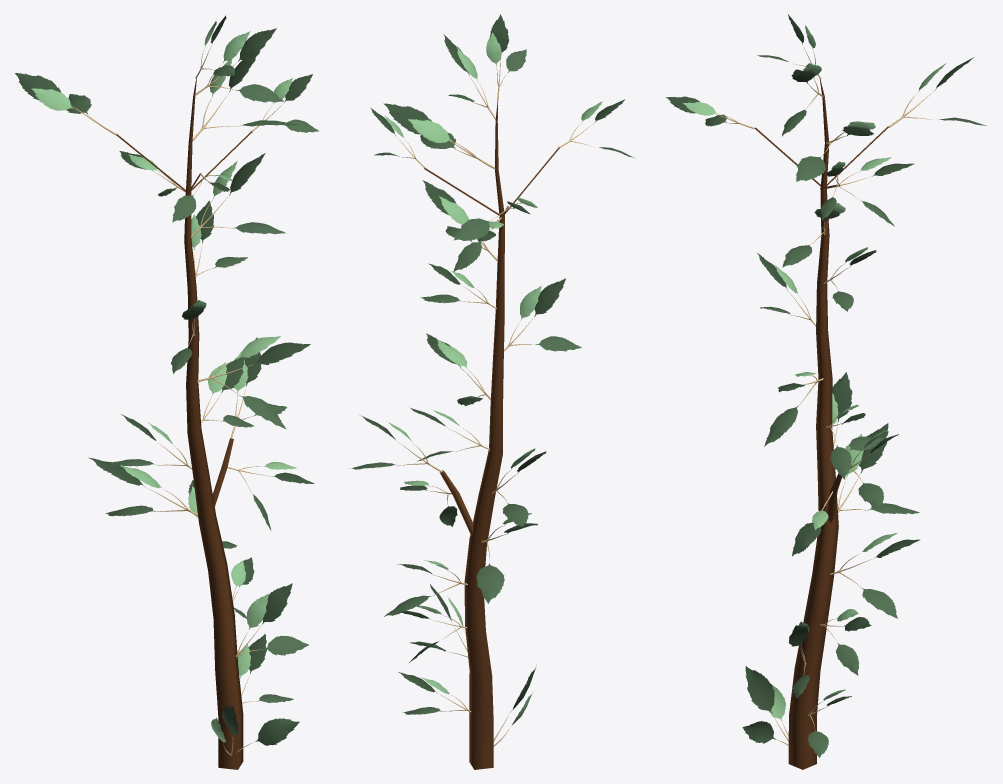
Rendered from Tree18.fbx.
The picture shows the model from 3 angles, left to right: view 1: azimuth 30°, elevation 25°; view 2: azimuth 150°, elevation 25°; view 3: azimuth 270°, elevation 25°; orthographic projection.
Parts seen in each view (by area): view 1: Árbol.002, Hojas|tree|Dupli|17, Hojas|tree|Dupli|15, Hojas|tree|Dupli|18, Hojas|tree|Dupli|4, Hojas|tree|Dupli|7, Hojas|tree|Dupli|, Hojas|tree|Dupli|5, Hojas|tree|Dupli|13, Hojas|tree|Dupli|2, Hojas|tree|Dupli|20, Hojas|tree|Dupli|12 (+8 smaller); view 2: Árbol.002, Hojas|tree|Dupli|2, Hojas|tree|Dupli|9, Hojas|tree|Dupli|3, Hojas|tree|Dupli|5, Hojas|tree|Dupli|, Hojas|tree|Dupli|17, Hojas|tree|Dupli|4, Hojas|tree|Dupli|16, Hojas|tree|Dupli|18, Hojas|tree|Dupli|12, Hojas|tree|Dupli|20 (+5 smaller); view 3: Árbol.002, Hojas|tree|Dupli|7, Hojas|tree|Dupli|5, Hojas|tree|Dupli|8, Hojas|tree|Dupli|16, Hojas|tree|Dupli|2, Hojas|tree|Dupli|11, Hojas|tree|Dupli|17, Hojas|tree|Dupli|6, Hojas|tree|Dupli|19, Hojas|tree|Dupli|14, Hojas|tree|Dupli|10 (+8 smaller).
Part boxes in pixels (<box>): Árbol.002: <box>116,78,251,769</box>; Hojas|tree|Dupli|17: <box>197,336,310,429</box>; Hojas|tree|Dupli|15: <box>236,583,308,657</box>; Hojas|tree|Dupli|18: <box>194,28,283,102</box>; Hojas|tree|Dupli|4: <box>15,73,116,135</box>; Hojas|tree|Dupli|7: <box>211,706,299,755</box>; Hojas|tree|Dupli|: <box>191,153,285,237</box>; Hojas|tree|Dupli|5: <box>88,457,197,516</box>; Hojas|tree|Dupli|13: <box>201,357,254,427</box>; Hojas|tree|Dupli|2: <box>192,51,298,142</box>; Hojas|tree|Dupli|20: <box>191,200,247,278</box>; Hojas|tree|Dupli|12: <box>237,634,293,703</box>; Árbol.002: <box>424,101,559,769</box>; Hojas|tree|Dupli|2: <box>383,103,495,169</box>; Hojas|tree|Dupli|9: <box>504,278,581,351</box>; Hojas|tree|Dupli|3: <box>486,14,526,101</box>; Hojas|tree|Dupli|5: <box>476,513,537,603</box>; Hojas|tree|Dupli|: <box>422,180,497,261</box>; Hojas|tree|Dupli|17: <box>426,333,490,405</box>; Hojas|tree|Dupli|4: <box>453,197,537,240</box>; Hojas|tree|Dupli|16: <box>492,448,546,527</box>; Hojas|tree|Dupli|18: <box>443,34,495,119</box>; Hojas|tree|Dupli|12: <box>398,672,471,714</box>; Hojas|tree|Dupli|20: <box>420,263,496,309</box>; Árbol.002: <box>755,79,888,769</box>; Hojas|tree|Dupli|7: <box>742,666,789,746</box>; Hojas|tree|Dupli|5: <box>838,423,919,514</box>; Hojas|tree|Dupli|8: <box>830,533,920,618</box>; Hojas|tree|Dupli|16: <box>832,372,883,451</box>; Hojas|tree|Dupli|2: <box>796,121,875,181</box>; Hojas|tree|Dupli|11: <box>820,609,871,675</box>; Hojas|tree|Dupli|17: <box>764,372,823,446</box>; Hojas|tree|Dupli|6: <box>666,96,754,128</box>; Hojas|tree|Dupli|19: <box>826,157,914,226</box>; Hojas|tree|Dupli|14: <box>792,491,832,556</box>; Hojas|tree|Dupli|10: <box>850,429,898,509</box>.
Size of the model in its own units: 165 by 528 by 207.
